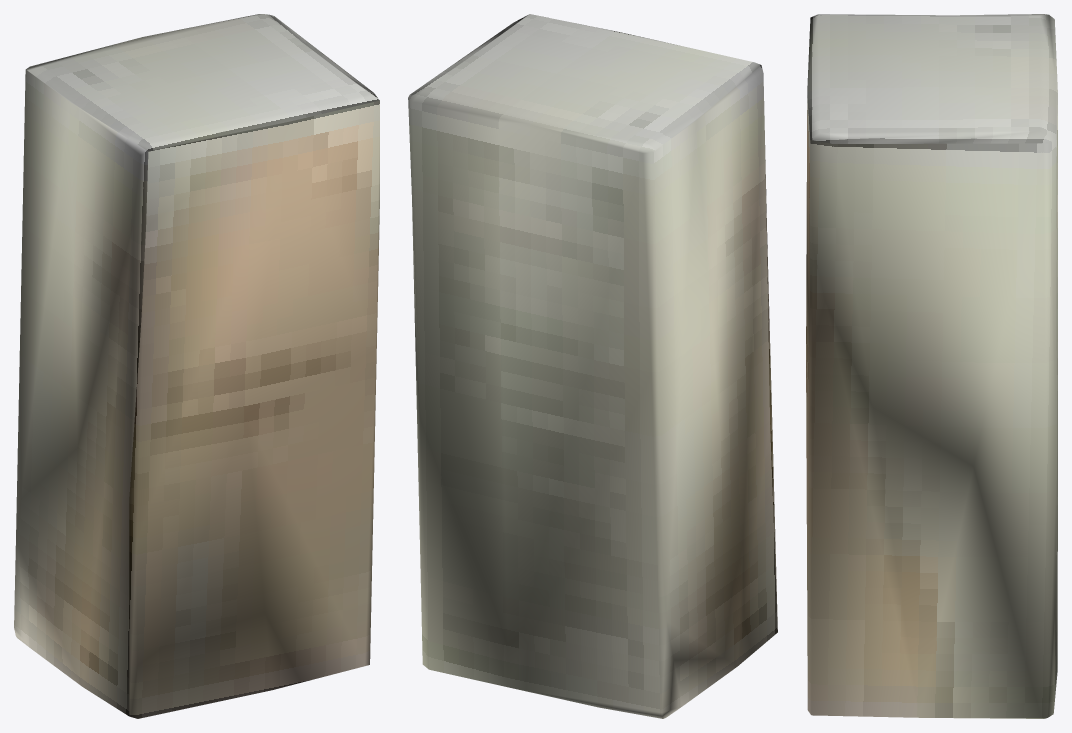
File: Perricoen_MD_No_Concealer_Concealer-low.glb
The picture shows the model from 3 angles, left to right: view 1: azimuth 30°, elevation 25°; view 2: azimuth 150°, elevation 25°; view 3: azimuth 270°, elevation 25°; orthographic projection. The views are drawn at different scales.
Parts seen in each view (by area): view 1: Perricoen_MD_No_Concealer_Concealer; view 2: Perricoen_MD_No_Concealer_Concealer; view 3: Perricoen_MD_No_Concealer_Concealer.
Boxes of the visible parts, left/top/right/bottom form: Perricoen_MD_No_Concealer_Concealer: left=14, top=14, right=379, bottom=718; Perricoen_MD_No_Concealer_Concealer: left=408, top=14, right=777, bottom=718; Perricoen_MD_No_Concealer_Concealer: left=806, top=14, right=1057, bottom=718.
Size of the model in its own units: 0.0522 by 0.1105 by 0.0424.
Materials: 1 (1 with a texture image).
